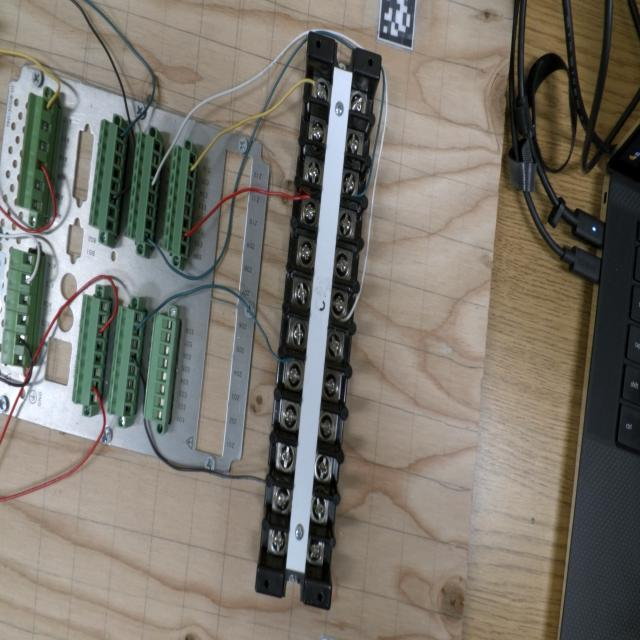Phillips_Block: (254, 32, 384, 610)
Terminal_1: (15, 92, 58, 214), (0, 248, 39, 367)
Terminal_2: (88, 118, 128, 235), (125, 131, 164, 247), (72, 294, 111, 406), (106, 305, 145, 417), (162, 144, 198, 258)
